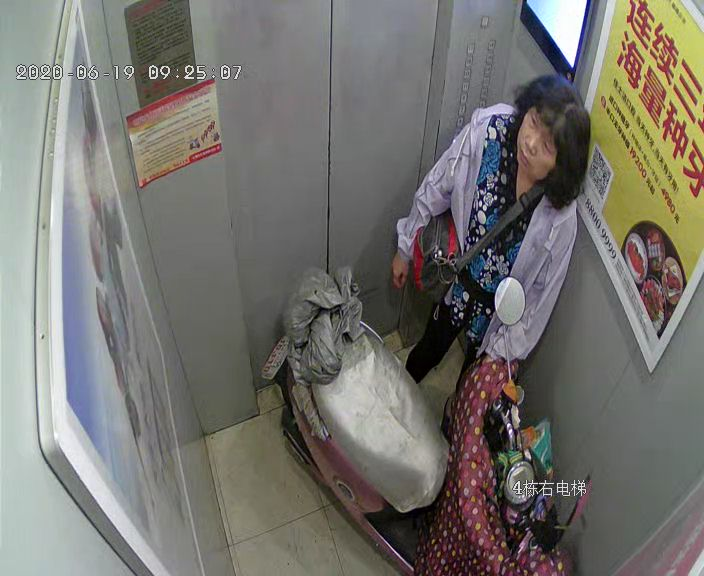Electric-bicycle: (286, 277, 593, 573)
